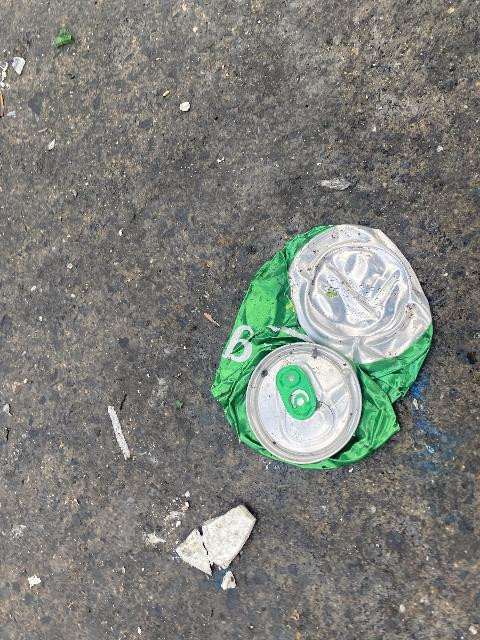Metal: (208, 221, 444, 470)
